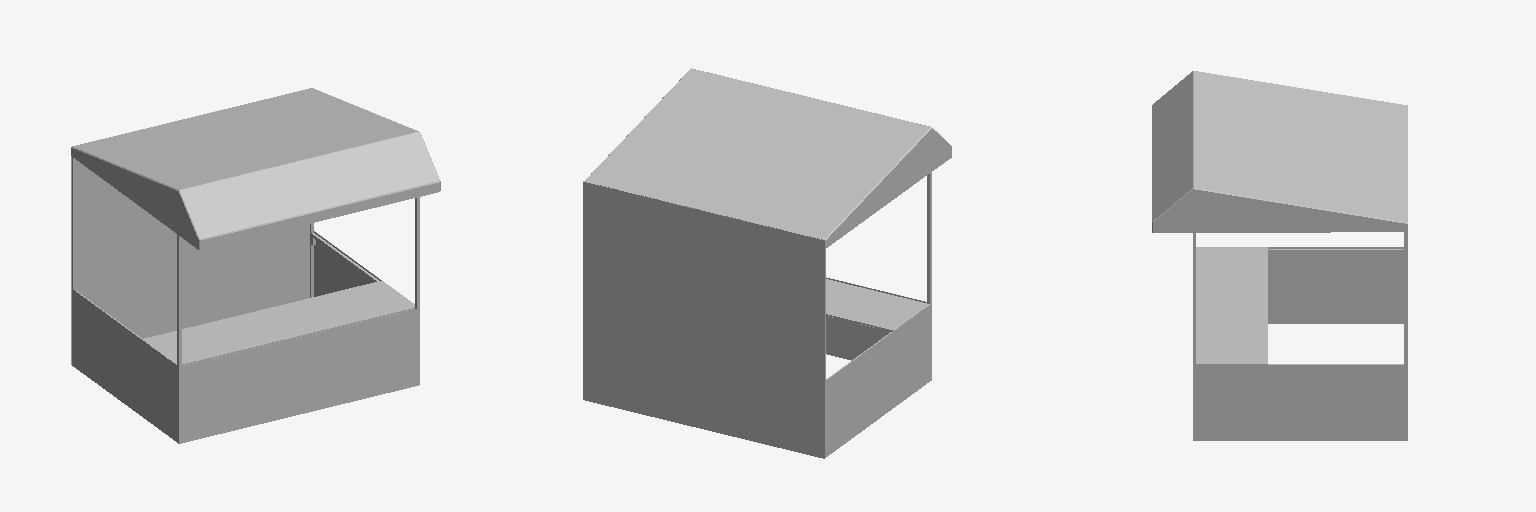
Rendered from stall.obj.
3 views of the same model, side by side, from view 1: azimuth 30°, elevation 25°; view 2: azimuth 150°, elevation 25°; view 3: azimuth 270°, elevation 25° (orthographic).
Parts seen in each view (by area): view 1: banner, banner.001, banner.002, table, Cube.001, Cube.002; view 2: banner.002, banner, banner.001, table, Cube.001; view 3: banner, banner.001, table, Cube.003, Cube.002.
Part boxes in pixels (x1,y1,x2,y2): banner: (71,88,440,249); banner.001: (72,231,419,443); banner.002: (71,88,309,364); table: (142,281,414,365); Cube.001: (177,197,419,366); Cube.002: (72,157,313,297); banner.002: (583,181,824,458); banner: (584,68,951,248); banner.001: (825,277,931,457); table: (826,279,929,331); Cube.001: (927,172,931,303); banner: (1152,71,1407,232); banner.001: (1193,247,1407,440); table: (1196,247,1267,364); Cube.003: (1268,249,1403,260); Cube.002: (1404,232,1407,364).
Bounding box in the file's own units: 11.98 × 11.99 × 11.